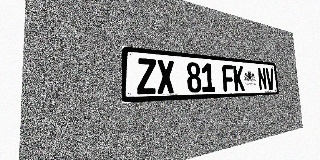1: (201, 63, 215, 92)
8: (186, 62, 202, 93)
F: (222, 64, 235, 91)
K: (233, 65, 245, 91)
N: (257, 67, 267, 90)
V: (265, 68, 275, 90)
X: (157, 59, 175, 94)
Z: (136, 58, 157, 94)
